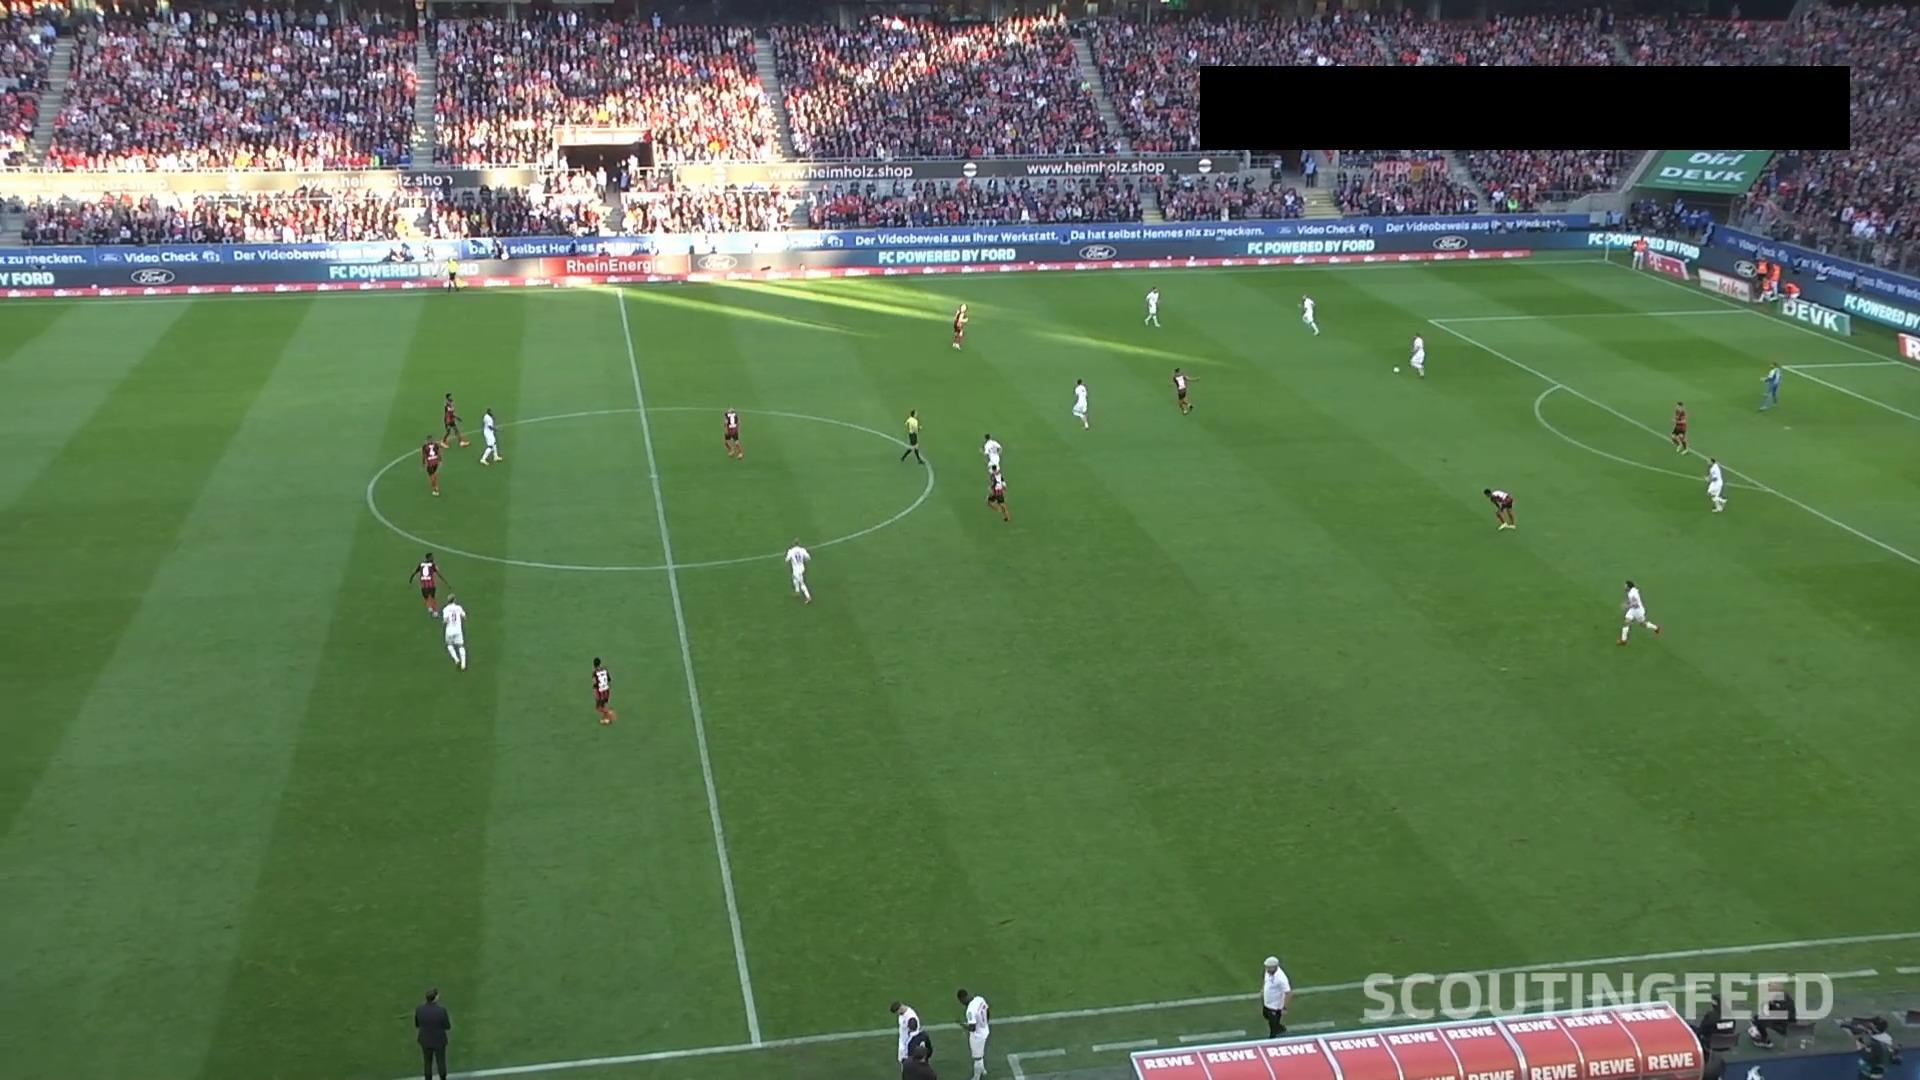ball: (1393, 365, 1402, 373)
